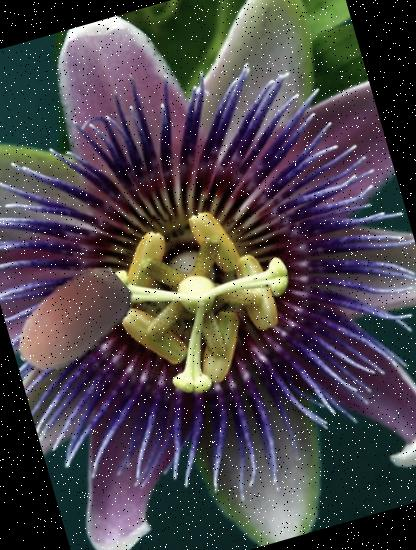Hazelnut: (0, 241, 151, 399)
